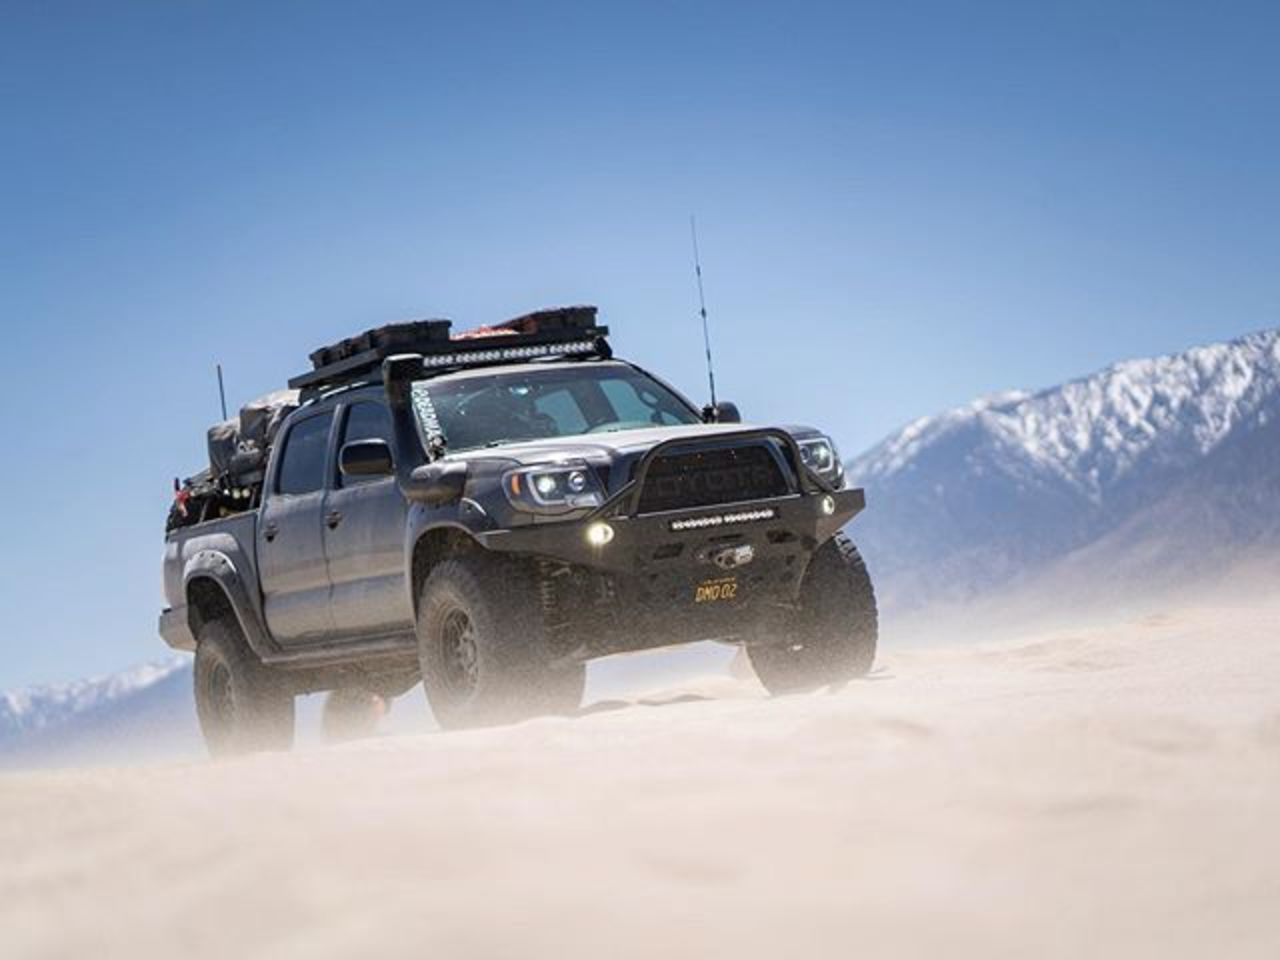car: (167, 301, 882, 764)
